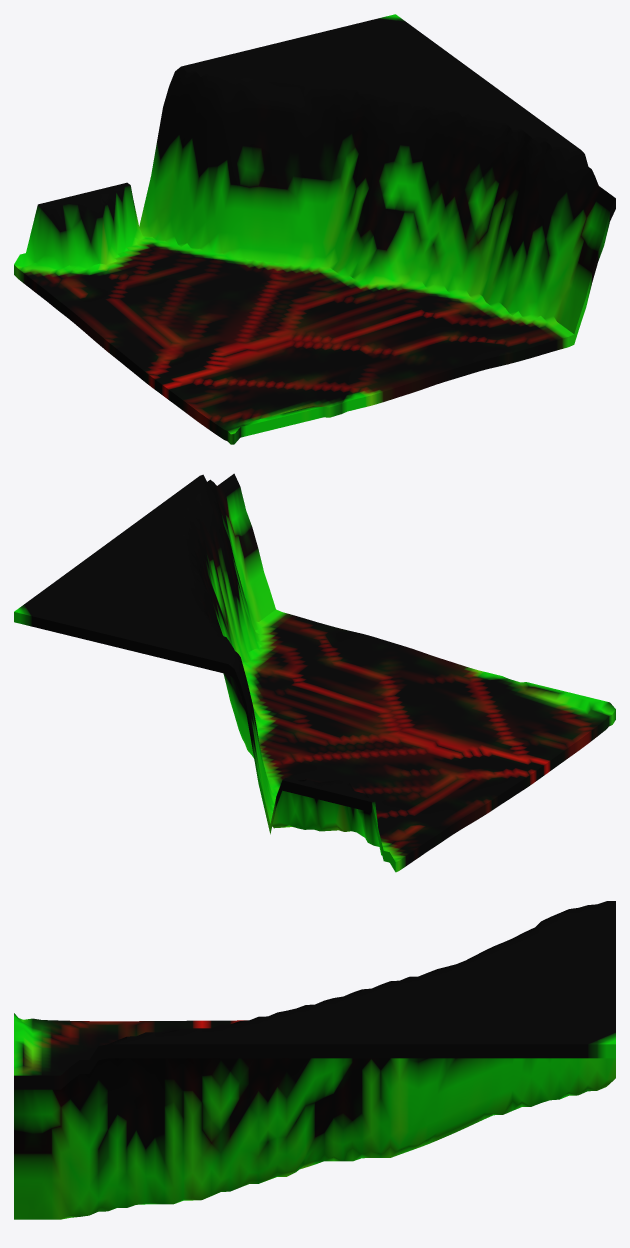
Rendered from Terrain_02_01.fbx.
3 views of the same model, one above another, from view 1: azimuth 30°, elevation 25°; view 2: azimuth 150°, elevation 25°; view 3: azimuth 270°, elevation 25° (orthographic). The views are drawn at different scales.
Parts seen in each view (by area): view 1: Terrain_02_01_LOD0; view 2: Terrain_02_01_LOD0; view 3: Terrain_02_01_LOD0.
Part boxes in pixels (x1,y1,x2,y2): Terrain_02_01_LOD0: (14, 14, 615, 444); Terrain_02_01_LOD0: (14, 473, 615, 872); Terrain_02_01_LOD0: (14, 901, 615, 1219).
Size of what is drawn, in the model's own units: 384 by 173 by 384.
